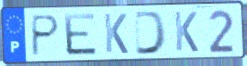2: (206, 7, 236, 55)
D: (133, 10, 169, 57)
E: (62, 12, 100, 57)
K: (103, 12, 130, 56), (173, 10, 200, 54)
P: (30, 13, 62, 58)
